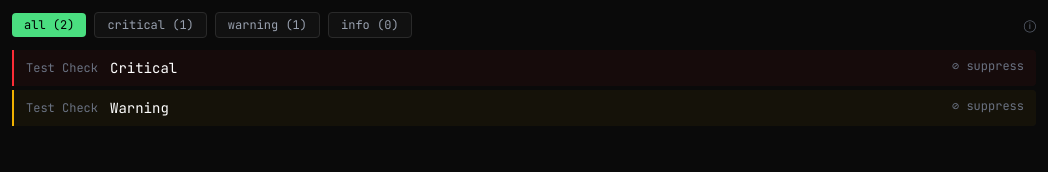
IssuesList › shows all issues again after clicking "all"
Click the button "critical (1)": [151, 25] box [94,12,207,38]
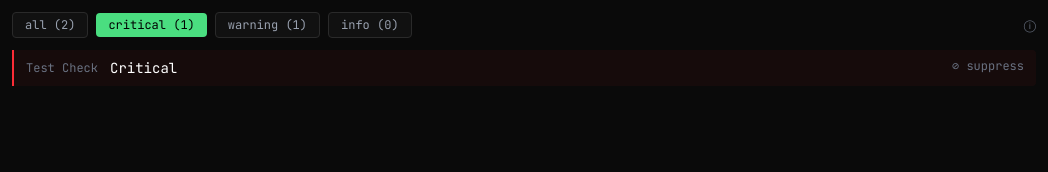
Click the button "all (2)": [50, 25] box [12,12,88,38]
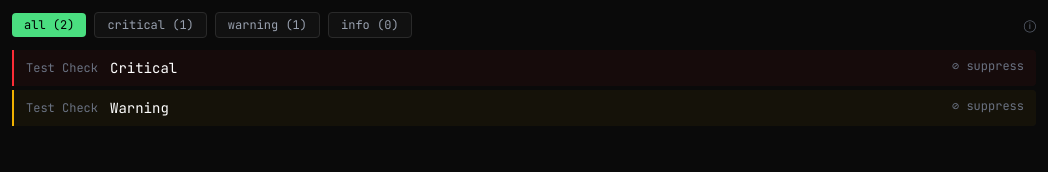
Expected: the text "Critical" is shown, [110,59,177,77]
Result: the text "Warning" is shown at [110,99,169,117]
